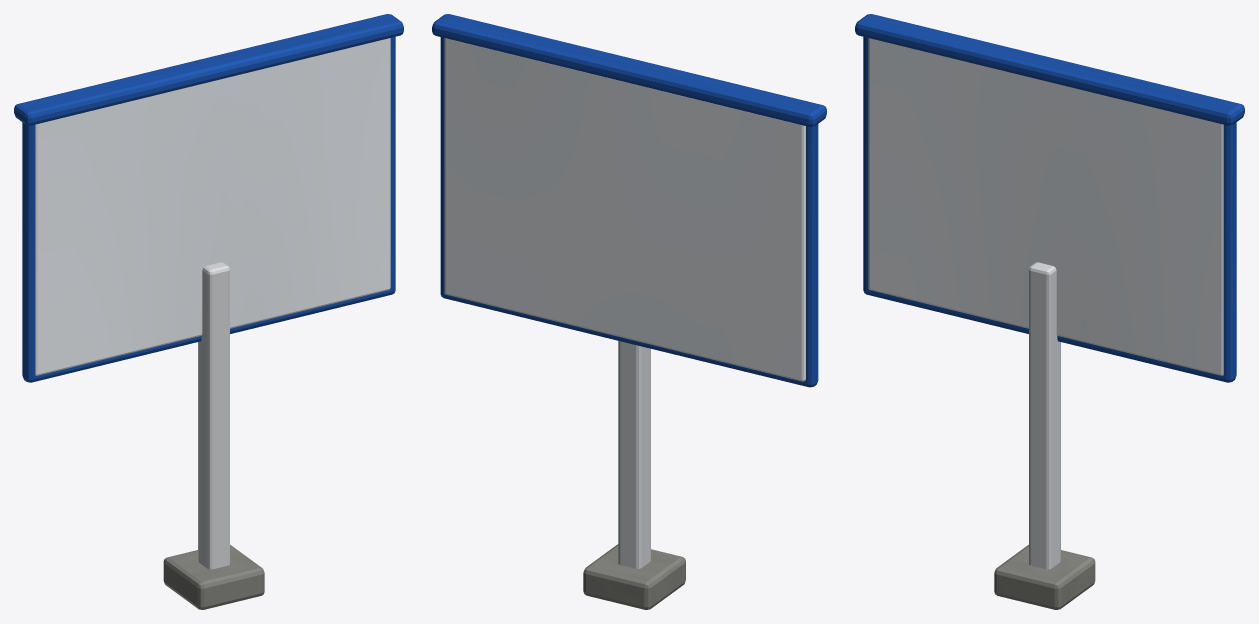
Rendered from SW_InfoBoard.glb.
3 renders of one model, left to right at view 1: azimuth 30°, elevation 25°; view 2: azimuth 150°, elevation 25°; view 3: azimuth 330°, elevation 25°, orthographic.
Visible parts, largest first — view 1: Board; view 2: Board; view 3: Board.
Boxes of the visible parts, <box> form: Board: <box>14,14,403,609</box>; Board: <box>432,14,826,609</box>; Board: <box>855,14,1244,609</box>.
Bounding box in the file's own units: 1.7 × 2.25 × 0.3.
Materials: 2 (1 with a texture image).
